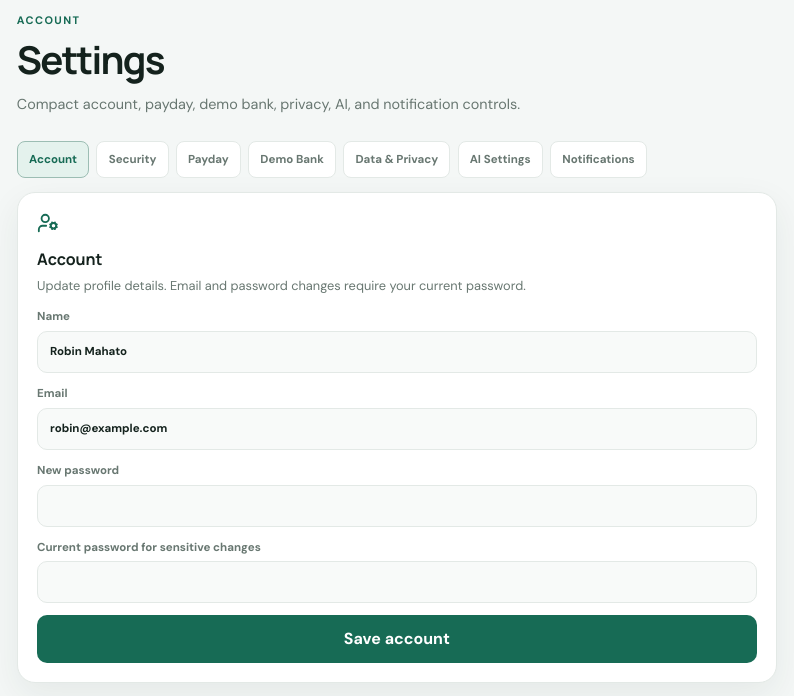
Test: portfolio upgrade UI › renders professional settings sections and sensitive password prompts
Expected: the tab "Account" is shown, [17, 141, 89, 178]
Expected: the tab "Security" is shown, [96, 141, 169, 178]
Click the tab "AI Settings" at (500, 159), box [458, 141, 543, 178]
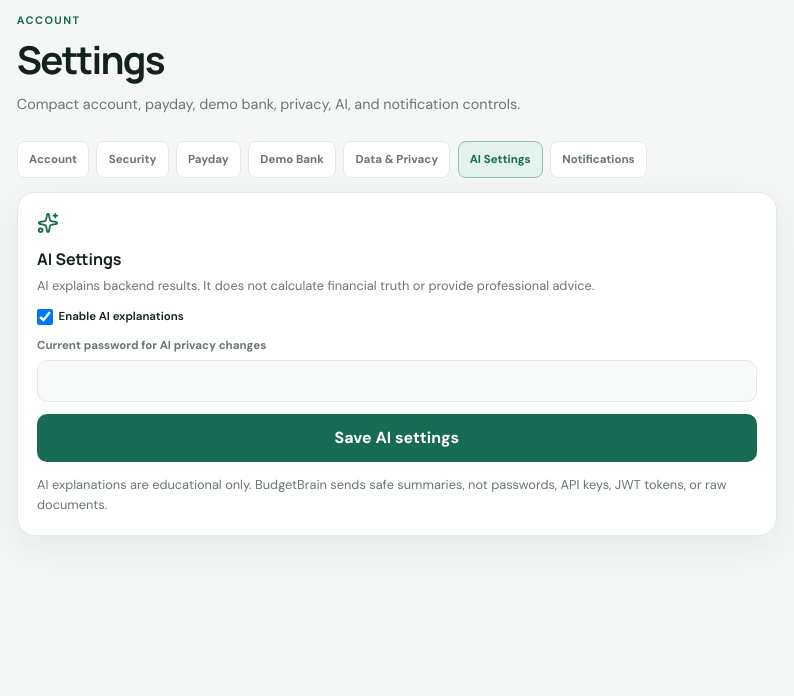
Result: the text "AI explanations are educational only" is shown at [37, 476, 730, 513]
